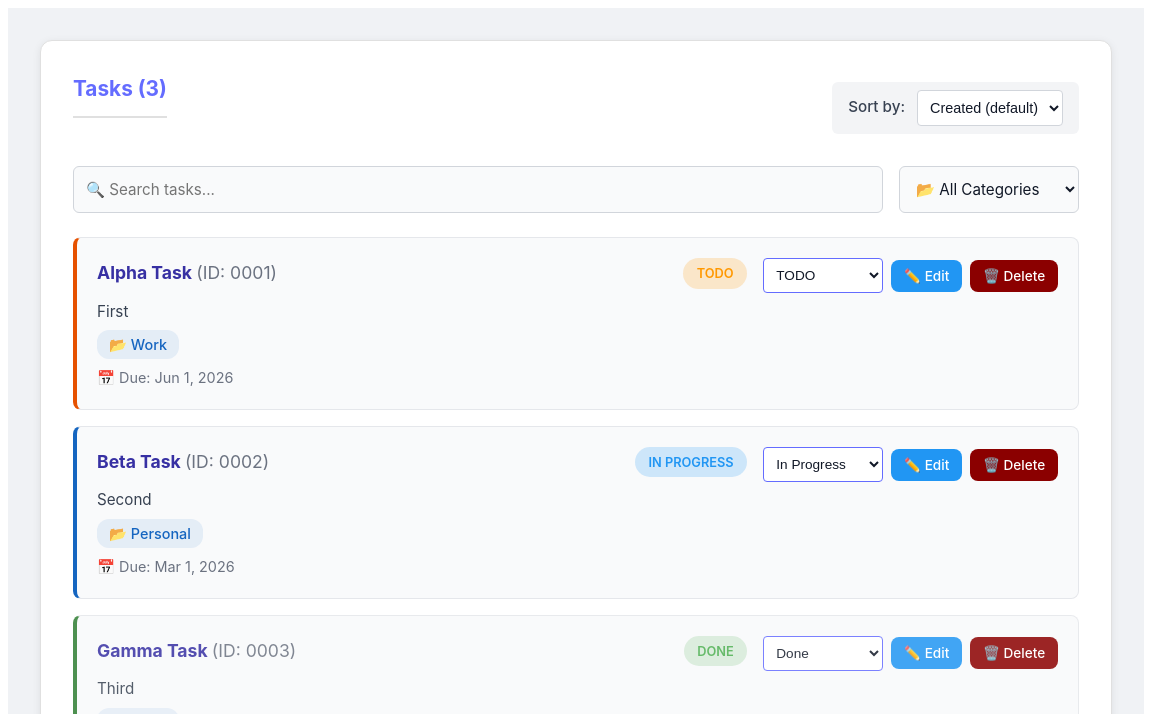
Test: TaskList – category filter › filters to only Work tasks when Work selected
Select "Work" in the 2nd dropdown: [989, 190] box [899,166,1079,213]
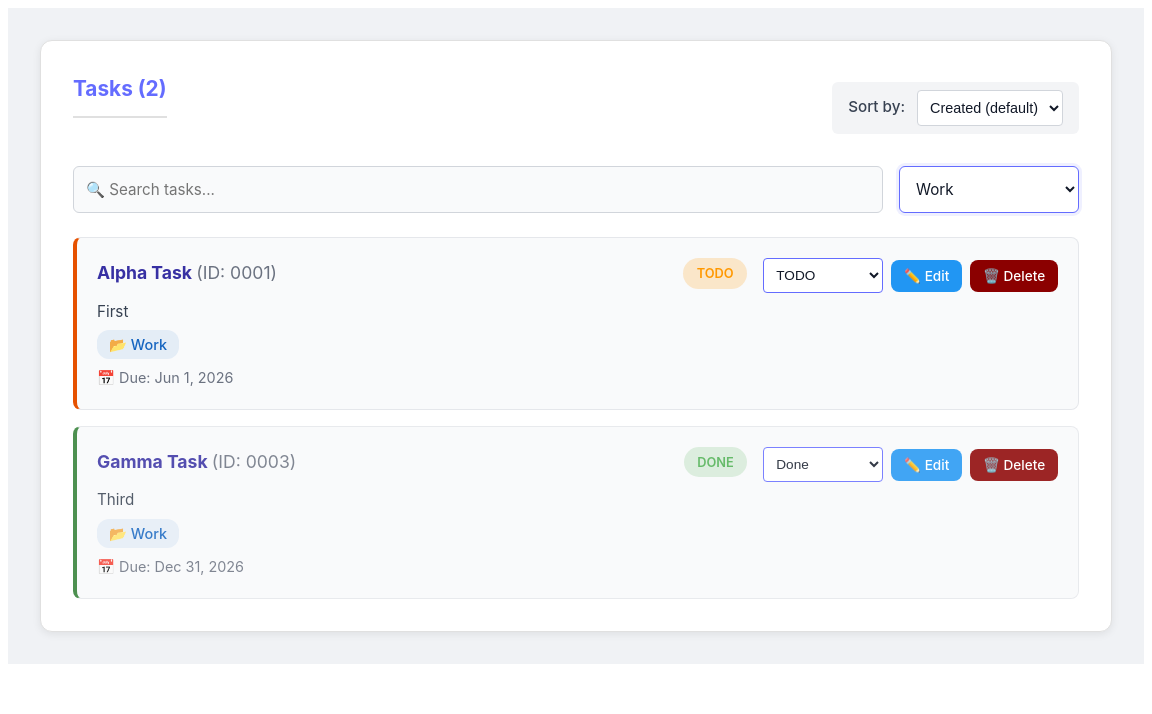
Expected: the heading "Alpha Task (ID: 0001)" is shown, [97,262,277,283]
Expected: the heading "Beta Task" is gone
